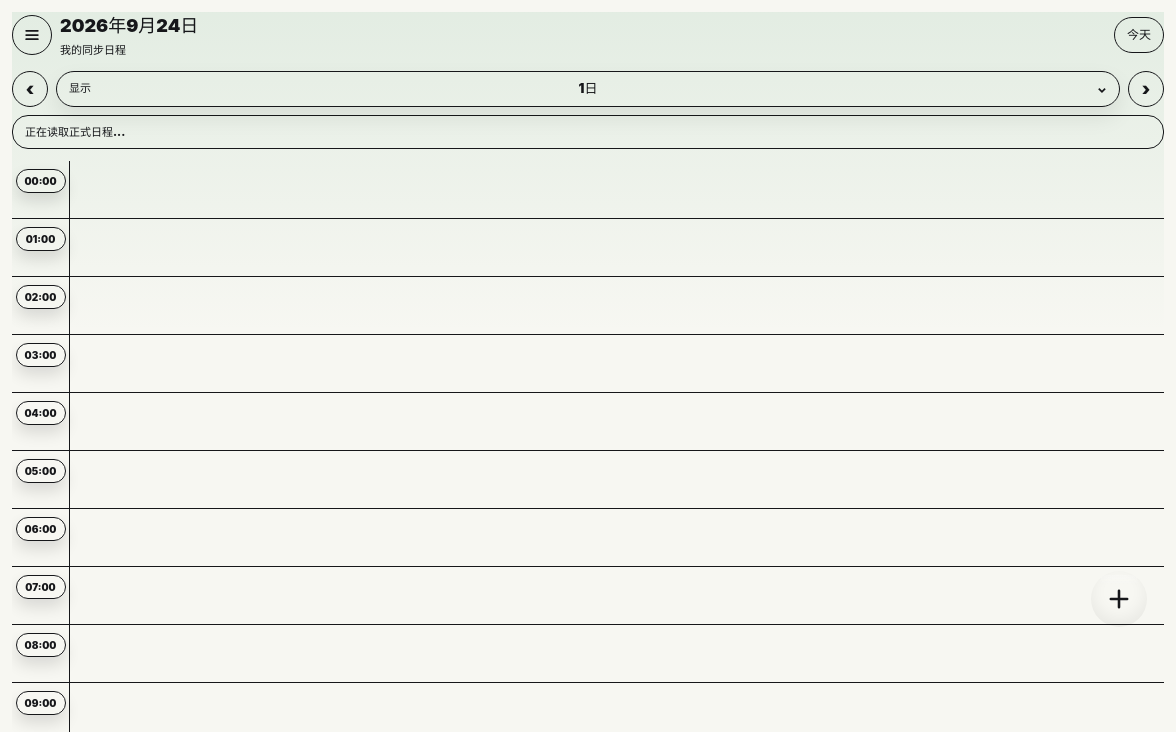
Test: UnifiedUserCalendar formal-only mode › opens the approved calendar-source menu without enabling local calendar persistence
The image size is (1176, 732).
Click the button named "打开日历来源": {"x": 32, "y": 35} [12,15,52,55]
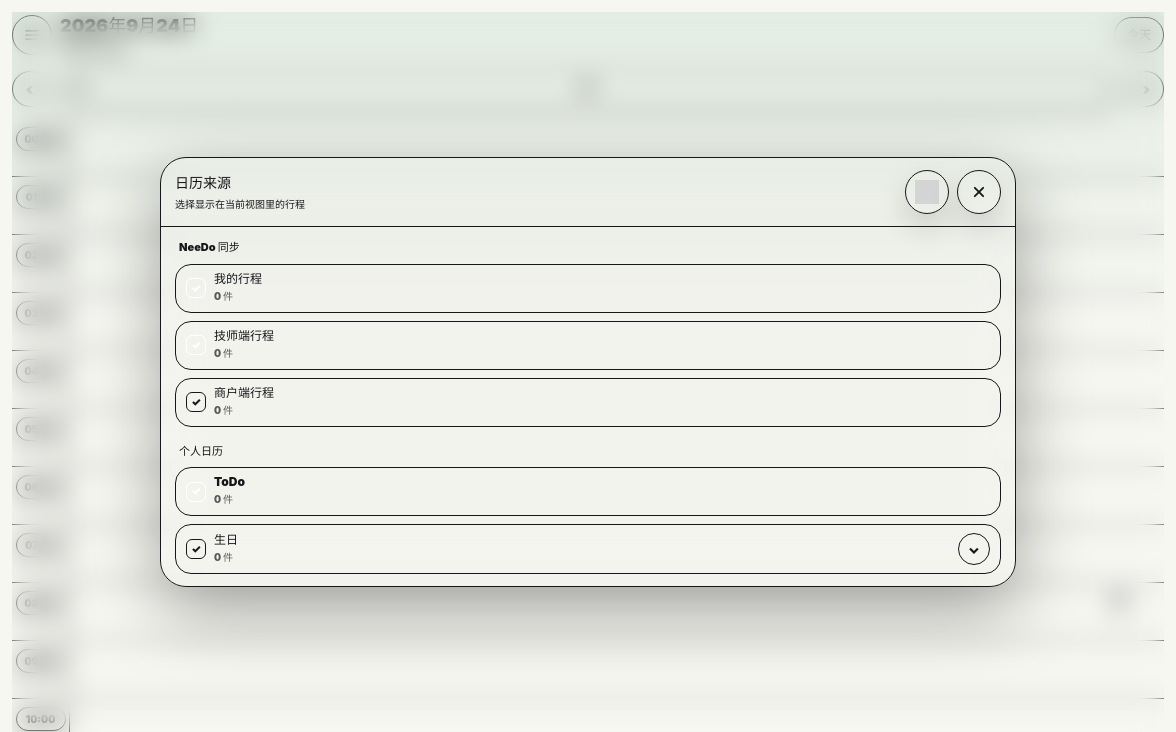
expect the menu shows "日历来源": met, box [175,174,231,190]
expect the menu shows "NeeDo 同步": met, box [179,240,240,254]
expect the menu shows "我的行程": met, box [175,264,1001,312]
